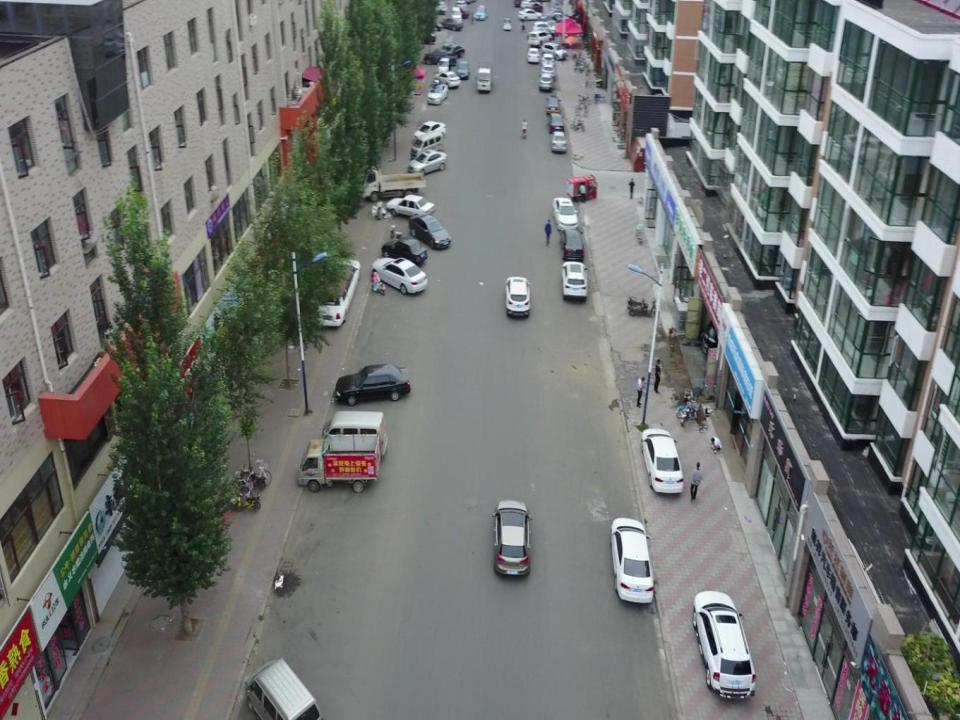car: (691, 589, 756, 699), (610, 517, 654, 604), (314, 258, 362, 329), (491, 499, 533, 579), (335, 363, 411, 407), (640, 427, 685, 496), (370, 256, 428, 294), (409, 212, 451, 249), (381, 237, 428, 265), (386, 194, 436, 220), (504, 276, 532, 318), (408, 148, 448, 177), (561, 260, 589, 301), (552, 197, 580, 234), (559, 226, 585, 262), (414, 121, 447, 142), (426, 82, 449, 105), (433, 70, 460, 88), (547, 113, 565, 134), (550, 131, 566, 152), (545, 94, 561, 115), (455, 61, 471, 80), (539, 72, 554, 92), (540, 64, 556, 79)
truck: (358, 164, 426, 203), (475, 58, 493, 93)
van: (296, 432, 380, 494), (244, 656, 324, 720), (319, 410, 388, 458), (409, 130, 444, 161), (436, 58, 452, 76)
